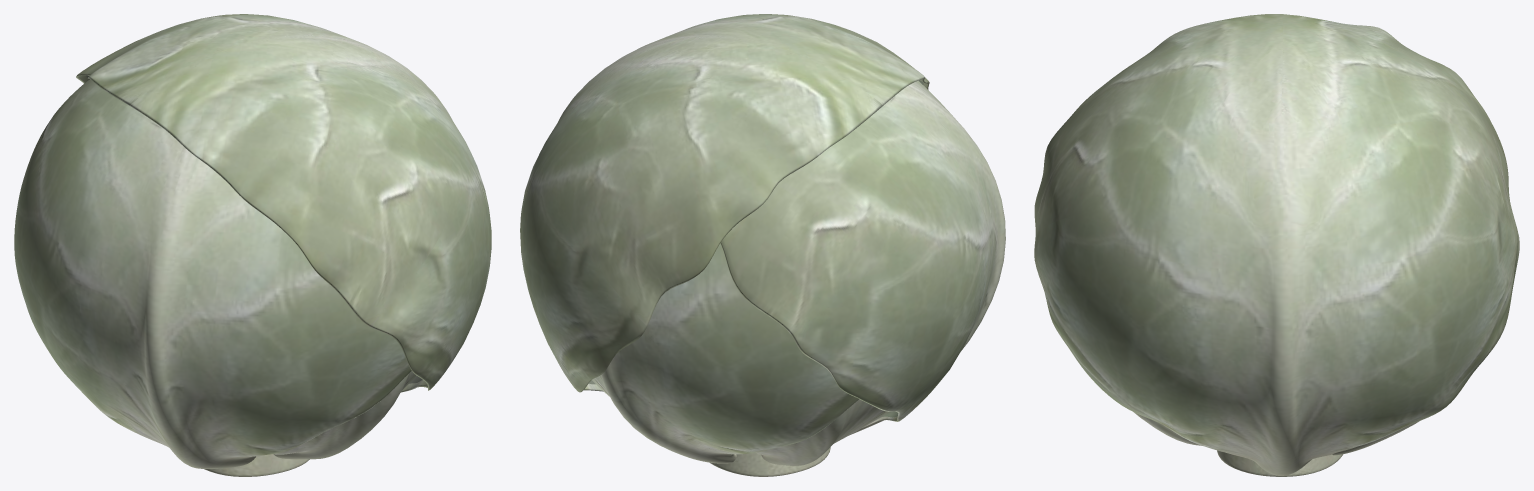
3 renders of one model, left to right at view 1: azimuth 30°, elevation 25°; view 2: azimuth 150°, elevation 25°; view 3: azimuth 270°, elevation 25°, orthographic.
Visible parts, largest first — view 1: 12209_Vegetable_v1_L3; view 2: 12209_Vegetable_v1_L3; view 3: 12209_Vegetable_v1_L3.
Part boxes in pixels (x1,y1,x2,y2): 12209_Vegetable_v1_L3: (14,14,491,476); 12209_Vegetable_v1_L3: (520,14,1005,476); 12209_Vegetable_v1_L3: (1034,14,1519,476).
Size of the model in its own units: 221 by 205 by 220.
1 material, 1 textured.
